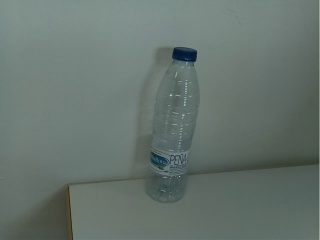botella plastico: (141, 44, 204, 206)
